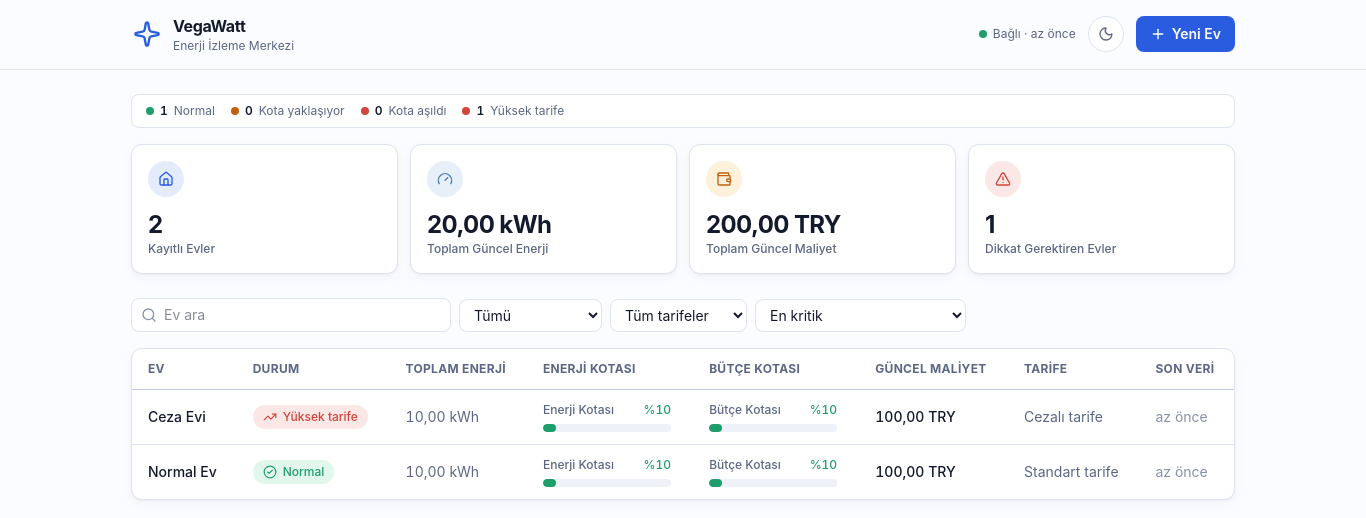
DashboardPage › labels a penalty-tariff home as such and filters search results down to a no-match empty state
expect the text "Yüksek tarife" is shown: met, box left=253, top=405, right=368, bottom=429
Type "olmayan-ev" into the search field labelled "Ev ara". click: x=291, y=315
box: left=131, top=298, right=451, bottom=332
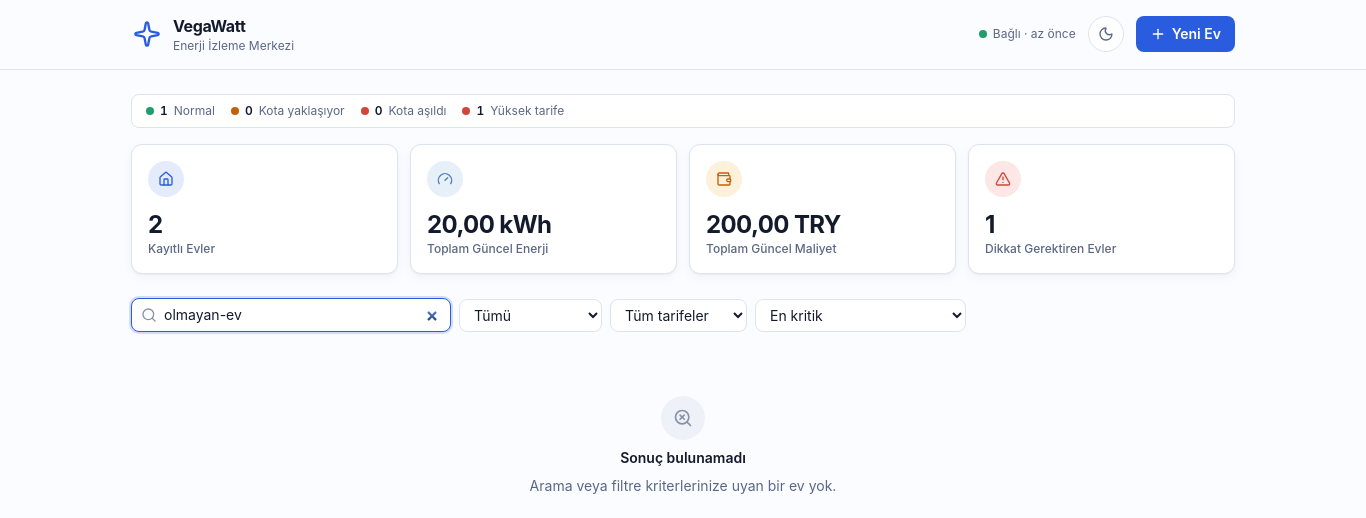
expect the text "Sonuç bulunamadı" is shown: met, box left=620, top=448, right=746, bottom=468
